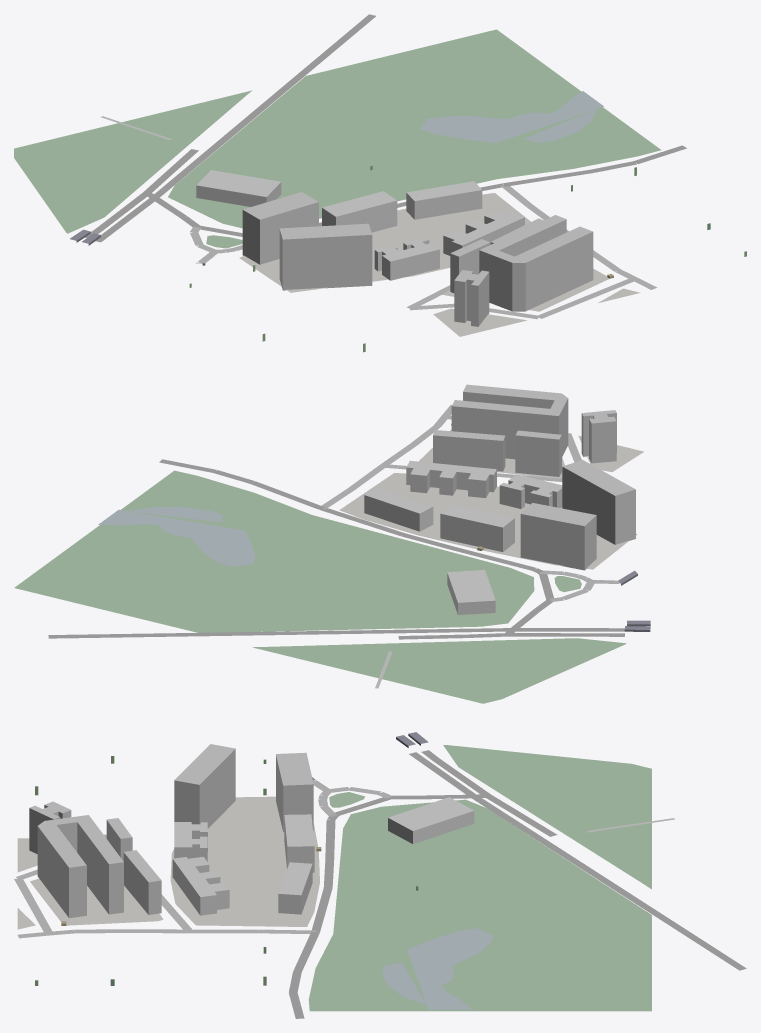
3 renders of one model, top to bottom at view 1: azimuth 30°, elevation 25°; view 2: azimuth 150°, elevation 25°; view 3: azimuth 270°, elevation 25°, orthographic. The views are drawn at different scales.
Size of the model in its own units: 529 by 48.52 by 578.
